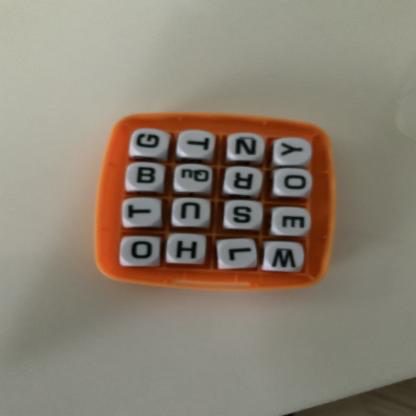b: (127, 161, 167, 191)
e: (278, 209, 312, 238)
g: (132, 129, 169, 157)
h: (171, 237, 206, 264)
l: (218, 240, 258, 269)
n: (228, 132, 267, 162)
o: (119, 236, 164, 266), (276, 171, 310, 196)
qu: (175, 163, 213, 192)
r: (226, 167, 263, 197)
s: (227, 201, 265, 231)
t: (122, 197, 162, 227), (181, 128, 217, 158)
u: (175, 199, 211, 224)
w: (267, 244, 303, 274)
y: (275, 137, 312, 166)
